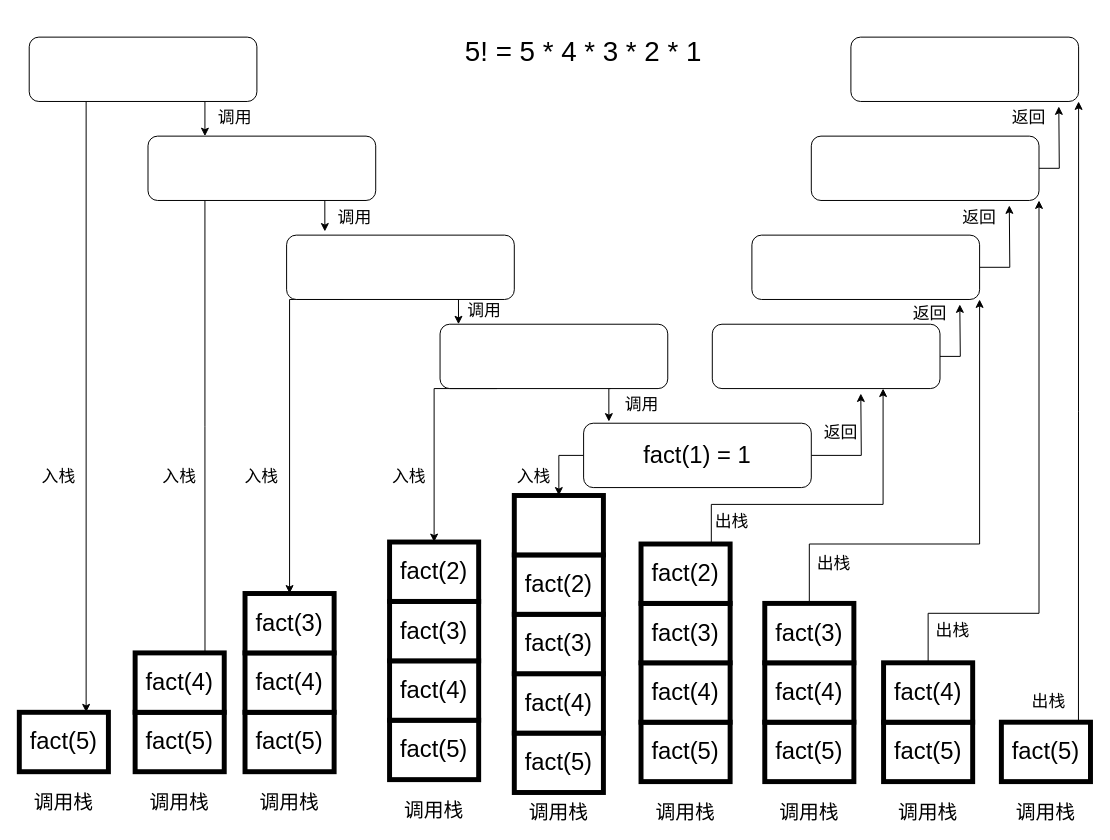
This 1110x840 diagram has some shape labels left out. The box of each missing label's shape, as (x1, y1, x2, y2) in pixels:
fact(1): (511, 493, 605, 557)
fact(2) = 2 * fact(1): (439, 323, 668, 389)
fact(2) = 2*1: (711, 323, 940, 389)
fact(3) = 3 * fact(2): (286, 234, 514, 299)
fact(3) = 3*2*1: (751, 234, 980, 299)
fact(4) = 4 * fact(3): (147, 135, 376, 200)
fact(4) = 4*3*2*1: (810, 135, 1039, 200)
fact(5) = 5 * fact(4): (28, 36, 257, 101)
fact(5) = 5*4*3*2*1: (850, 36, 1079, 101)
